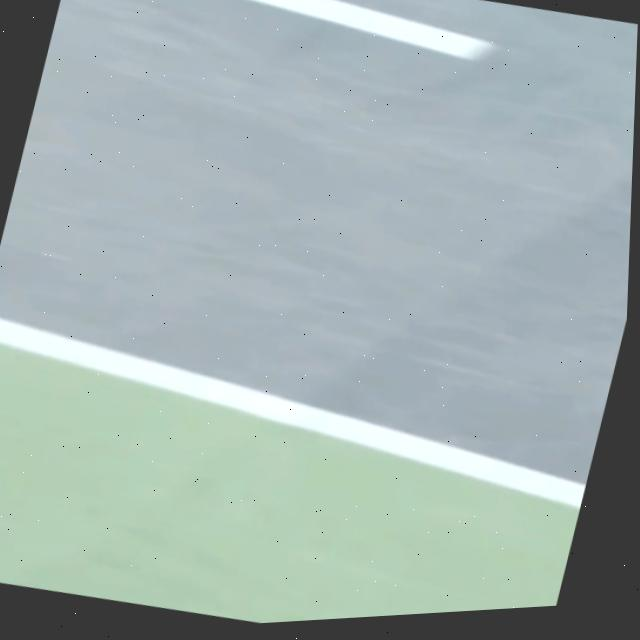center: (257, 0, 494, 57)
right: (0, 316, 586, 507)
